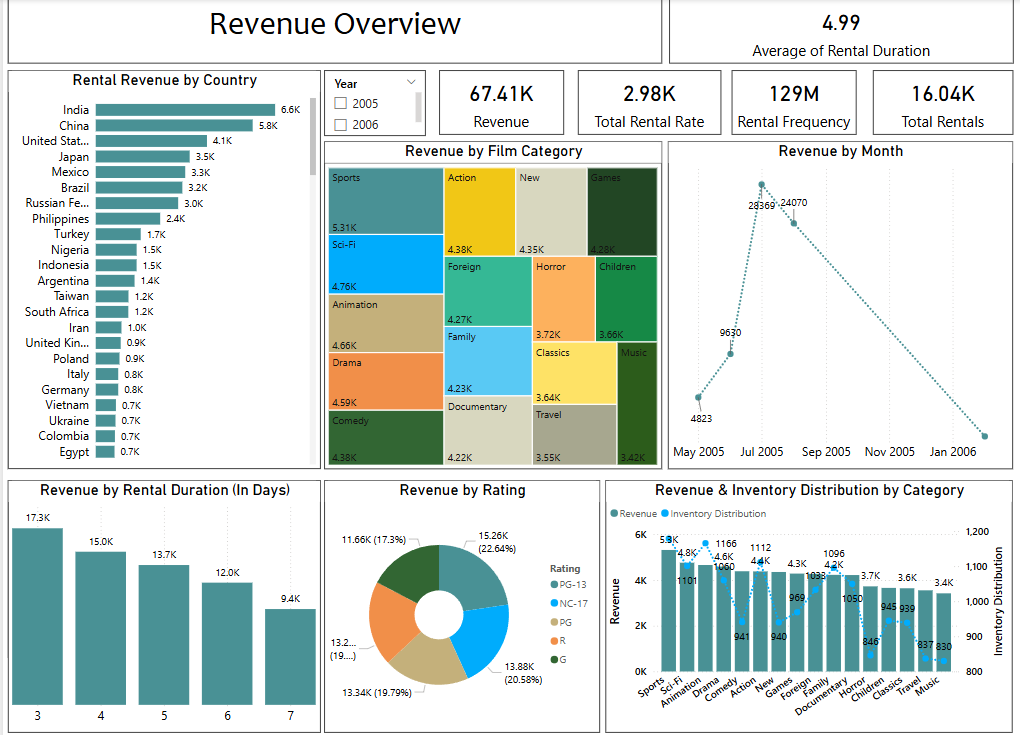

What the dashboard file says about the page in this screenshot:
{"tool":"powerbi","page":{"name":"Revenue Analysis","canvas":[1370,1000],"ordinal":1},"visuals":[{"type":"clusteredBarChart","title":"Rental Revenue by Country","fields":{"Category":["country.country"],"Y":["Sum(payment.amount)"]},"box":[6.2,95.8,418.9,534.8],"z":0},{"type":"textbox","box":[6.3,0,876.6,86.1],"z":1000},{"type":"lineChart","title":"Revenue by Month","fields":{"Y":["payment.Revenue"],"Category":["payment.payment_date.Variation.Date Hierarchy.Year","payment.payment_date.Variation.Date Hierarchy.Month"]},"box":[891.8,191.7,462.1,438.9],"z":2000},{"type":"treemap","fields":{"Group":["category.name"],"Values":["payment.Revenue"]},"box":[431.2,191.7,452.9,438.9],"z":3000},{"type":"lineStackedColumnComboChart","title":"Revenue & Inventory Distribution by Category","fields":{"Y":["payment.Revenue"],"Y2":["CountNonNull(rentat.inventory_id)"],"Category":["category.name"]},"box":[808.3,644.5,545.6,338.5],"z":4000},{"type":"card","fields":{"Values":["payment.Revenue"]},"box":[585.6,96,166.9,86.2],"z":5000},{"type":"donutChart","title":"Revenue by Rating","fields":{"Category":["film.rating"],"Y":["payment.Revenue"]},"box":[431.2,644.5,369.4,338.5],"z":6000},{"type":"lineStackedColumnComboChart","fields":{"Y":["payment.Revenue"],"Category":["film.rental_duration"]},"box":[6.2,644.5,418.9,338.5],"z":7000},{"type":"card","title":"Rental Frequency","fields":{"Values":["Sum(payment.payment_id)"]},"box":[976.5,96,166.9,86.2],"z":8000},{"type":"card","fields":{"Values":["Sum(film.rental_rate)"]},"box":[770.6,96,192,86.2],"z":9000},{"type":"card","fields":{"Values":["Avg(film.rental_duration)"]},"box":[892.3,0,461.8,86.1],"z":10000},{"type":"card","fields":{"Values":["CountNonNull(rentat.rental_id)"]},"box":[1165.7,96,187.8,86.2],"z":11000},{"type":"slicer","fields":{"Values":["payment.payment_date.Variation.Date Hierarchy.Year"]},"box":[431.2,96,136.3,87.6],"z":12000}]}

Visuals, with their boxes in screenshot pixels (x1, y1, x2, y2), scaled from the page's 1370x1000 canvas onto the 1020x735 screenshot:
"Rental Revenue by Country" clusteredBarChart: {"left": 5, "top": 70, "right": 316, "bottom": 463}
textbox: {"left": 5, "top": 0, "right": 657, "bottom": 63}
"Revenue by Month" lineChart: {"left": 664, "top": 141, "right": 1008, "bottom": 463}
treemap - category.name x payment.Revenue: {"left": 321, "top": 141, "right": 658, "bottom": 463}
"Revenue & Inventory Distribution by Category" lineStackedColumnComboChart: {"left": 602, "top": 474, "right": 1008, "bottom": 723}
card - payment.Revenue: {"left": 436, "top": 71, "right": 560, "bottom": 134}
"Revenue by Rating" donutChart: {"left": 321, "top": 474, "right": 596, "bottom": 723}
lineStackedColumnComboChart - payment.Revenue x film.rental_duration: {"left": 5, "top": 474, "right": 316, "bottom": 723}
"Rental Frequency" card: {"left": 727, "top": 71, "right": 851, "bottom": 134}
card - Sum(film.rental_rate): {"left": 574, "top": 71, "right": 717, "bottom": 134}
card - Avg(film.rental_duration): {"left": 664, "top": 0, "right": 1008, "bottom": 63}
card - CountNonNull(rentat.rental_id): {"left": 868, "top": 71, "right": 1008, "bottom": 134}
slicer - payment.payment_date.Variation.Date Hierarchy.Year: {"left": 321, "top": 71, "right": 423, "bottom": 135}
